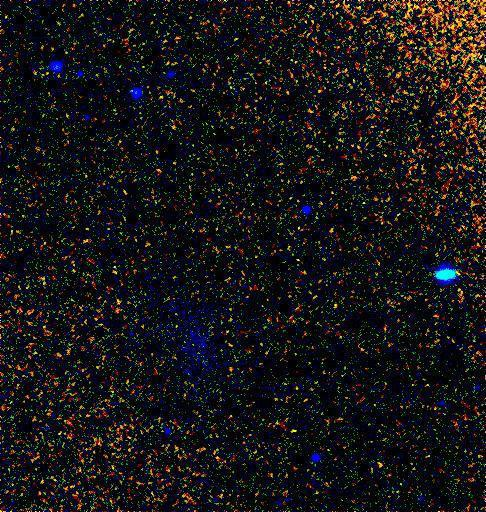star: (443, 259, 473, 289)
